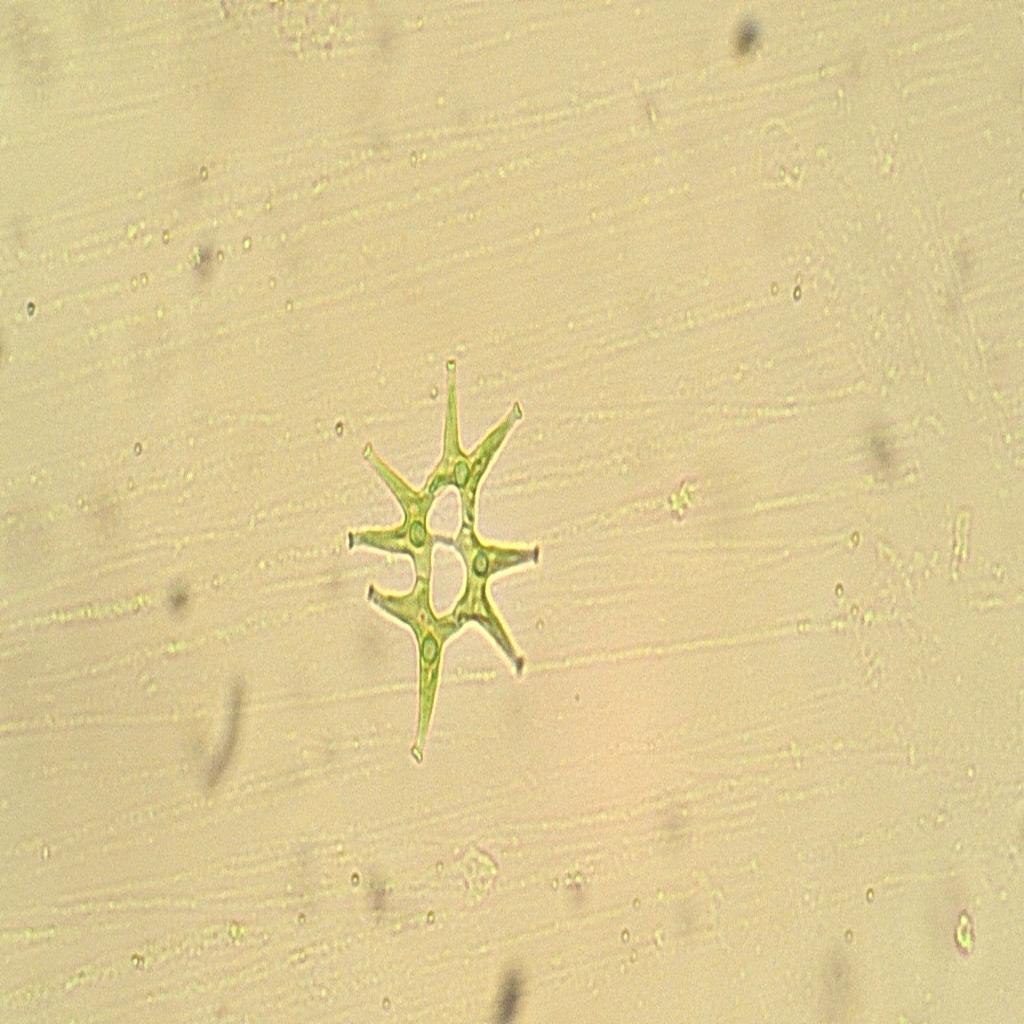Pediastrum_CF: (315, 341, 581, 773)
